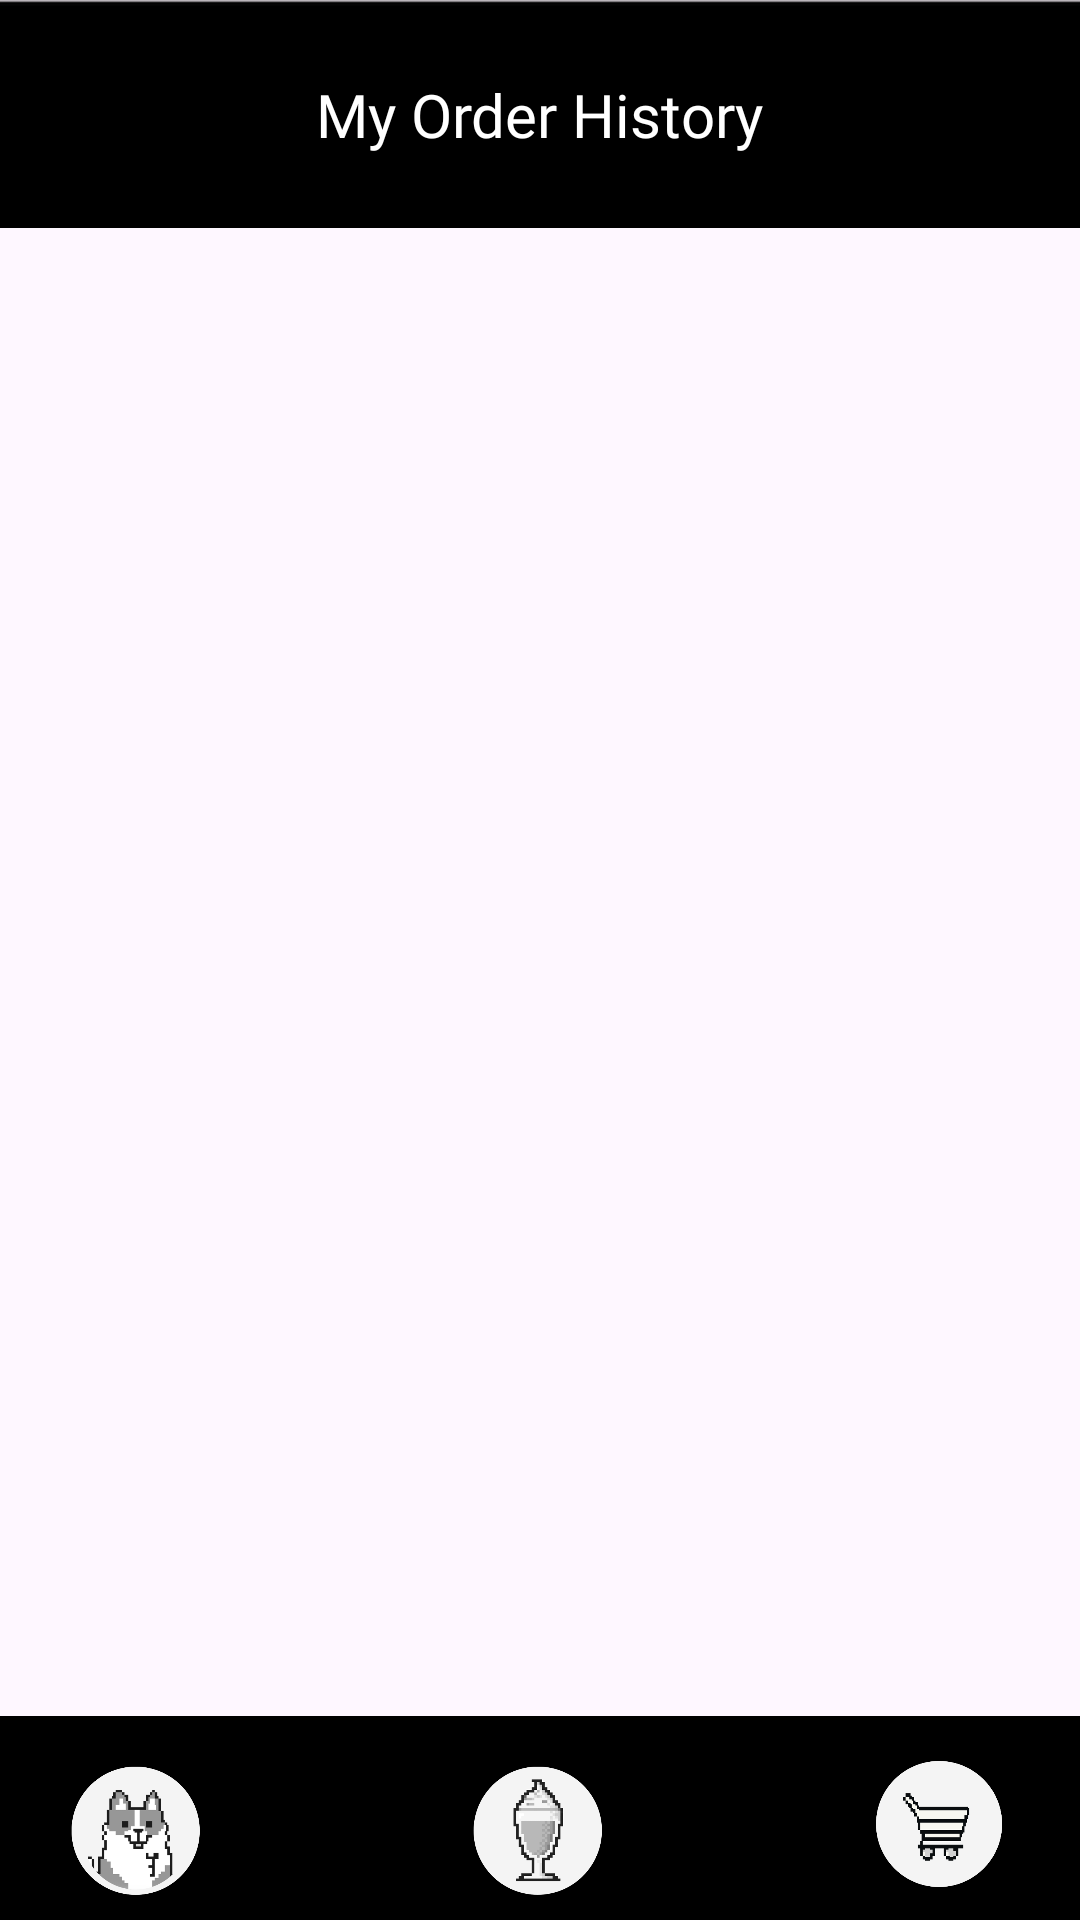

Screen size 1080 × 1920. Icon name, then its box in pixels as (x1, y1, x2, y2):
basket: (876, 1761, 1002, 1887)
icecream: (473, 1766, 602, 1895)
